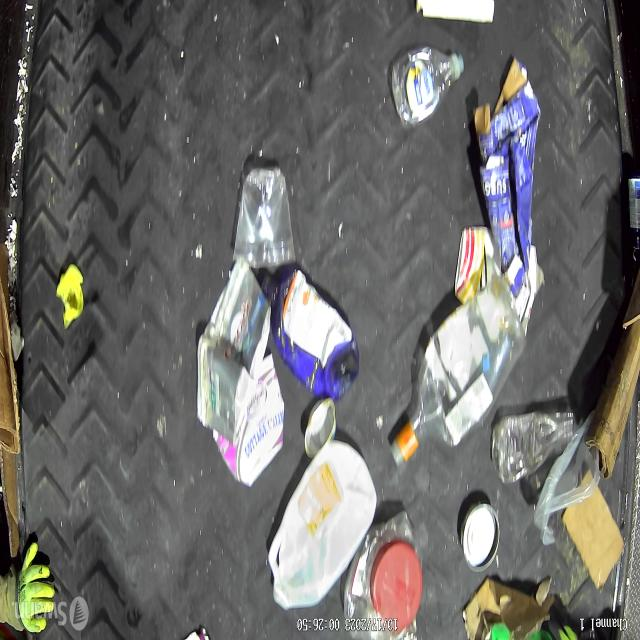can: (460, 499, 499, 573), (304, 399, 337, 461)
milk_jug: (269, 440, 376, 612)
plastic_bottle: (390, 276, 527, 468), (492, 407, 576, 486), (388, 48, 464, 127)
